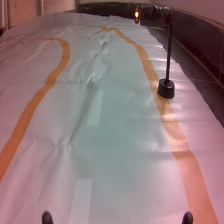yellow: (134, 2, 177, 99)
